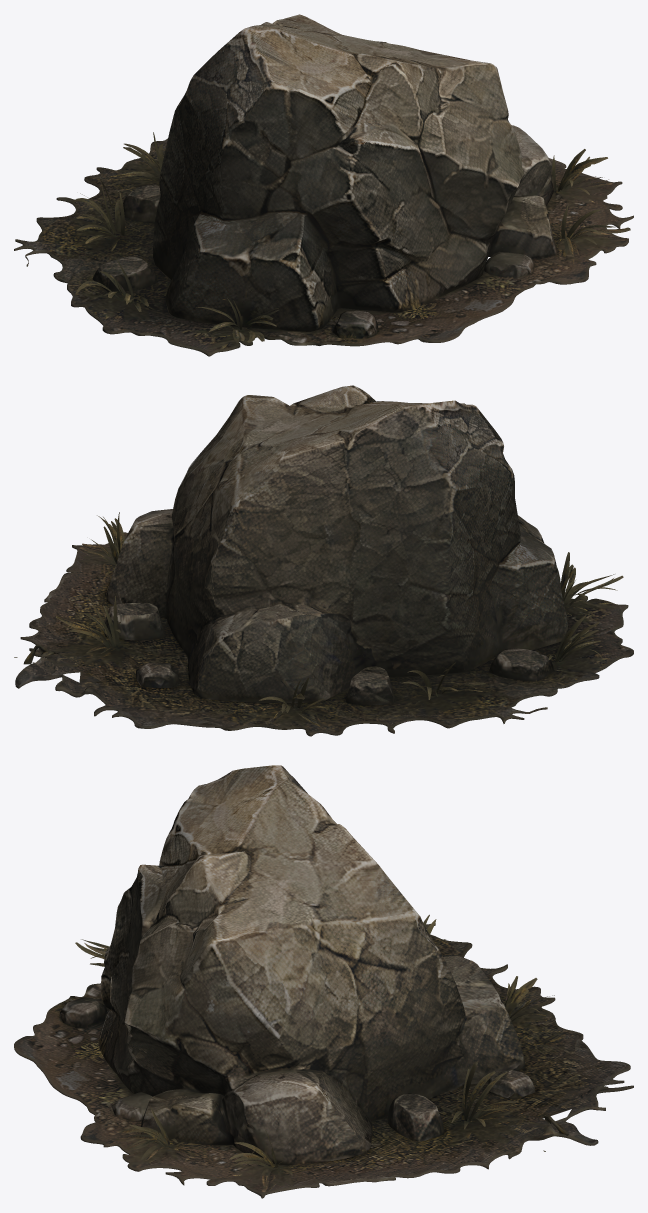
Rendered from rock_01_tripo.glb.
3 views of the same model, one above another, from view 1: azimuth 30°, elevation 25°; view 2: azimuth 150°, elevation 25°; view 3: azimuth 270°, elevation 25° (orthographic). The views are drawn at different scales.
Visible parts, largest first — view 1: tripo_055cfffb_a383_46c5_ad17_c69953910d66; view 2: tripo_055cfffb_a383_46c5_ad17_c69953910d66; view 3: tripo_055cfffb_a383_46c5_ad17_c69953910d66.
Boxes of the visible parts, x1,y1,x2,y2 form: tripo_055cfffb_a383_46c5_ad17_c69953910d66: (14,14,633,356); tripo_055cfffb_a383_46c5_ad17_c69953910d66: (14,385,633,736); tripo_055cfffb_a383_46c5_ad17_c69953910d66: (14,765,633,1198).
Bounding box in the file's own units: 0.9995 × 0.4253 × 0.9526.
Materials: 1 (1 with a texture image).
